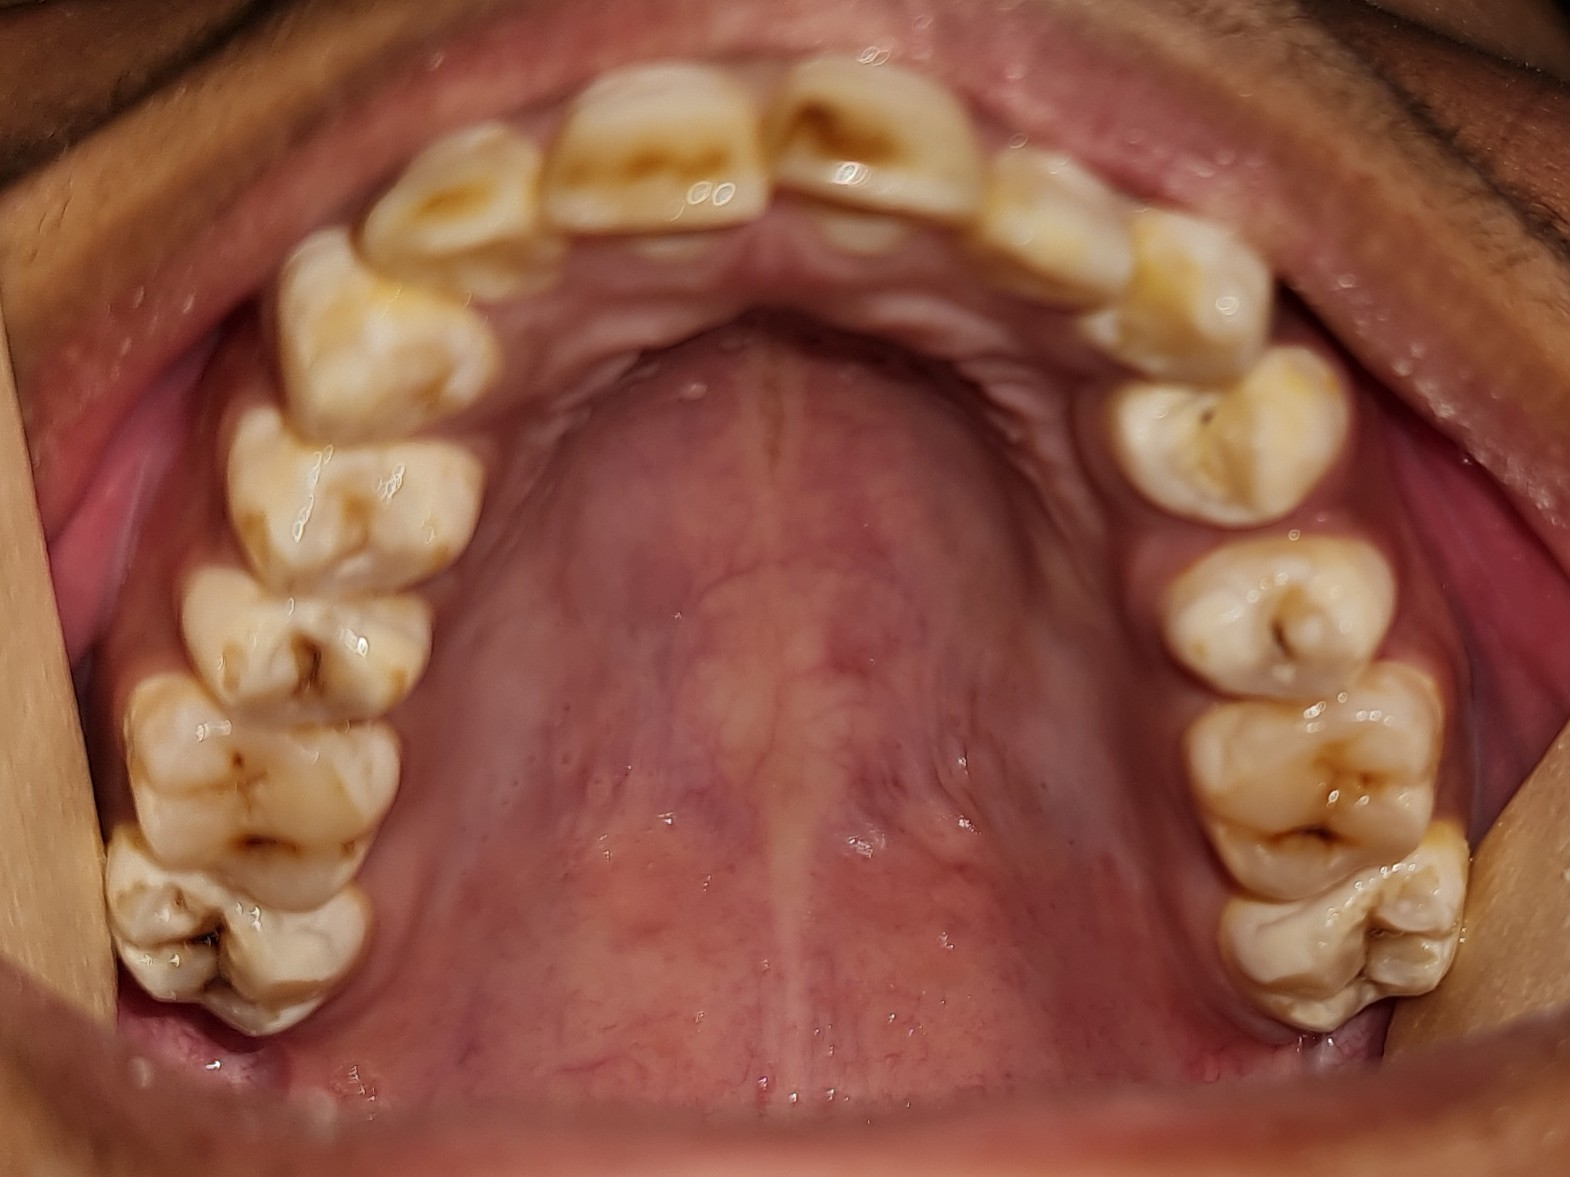D: (126, 676, 405, 909), (78, 831, 374, 1041), (1186, 677, 1452, 903), (1222, 852, 1471, 1037), (171, 568, 430, 720), (1159, 541, 1397, 705)
